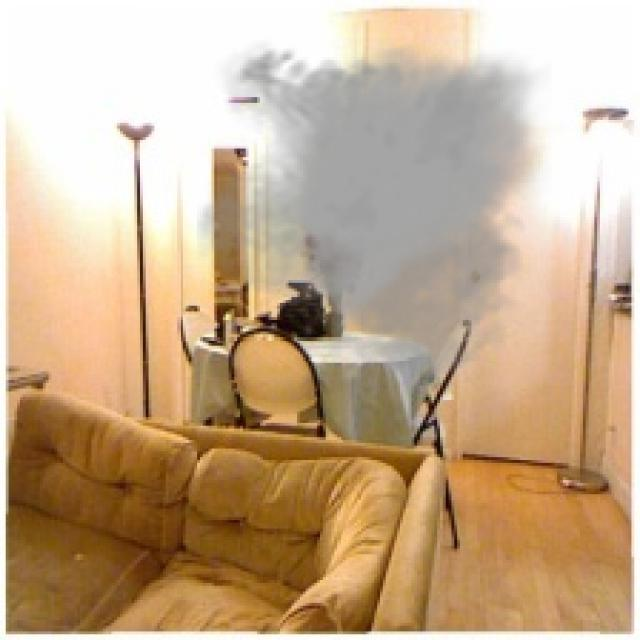smoke: (197, 37, 552, 380)
